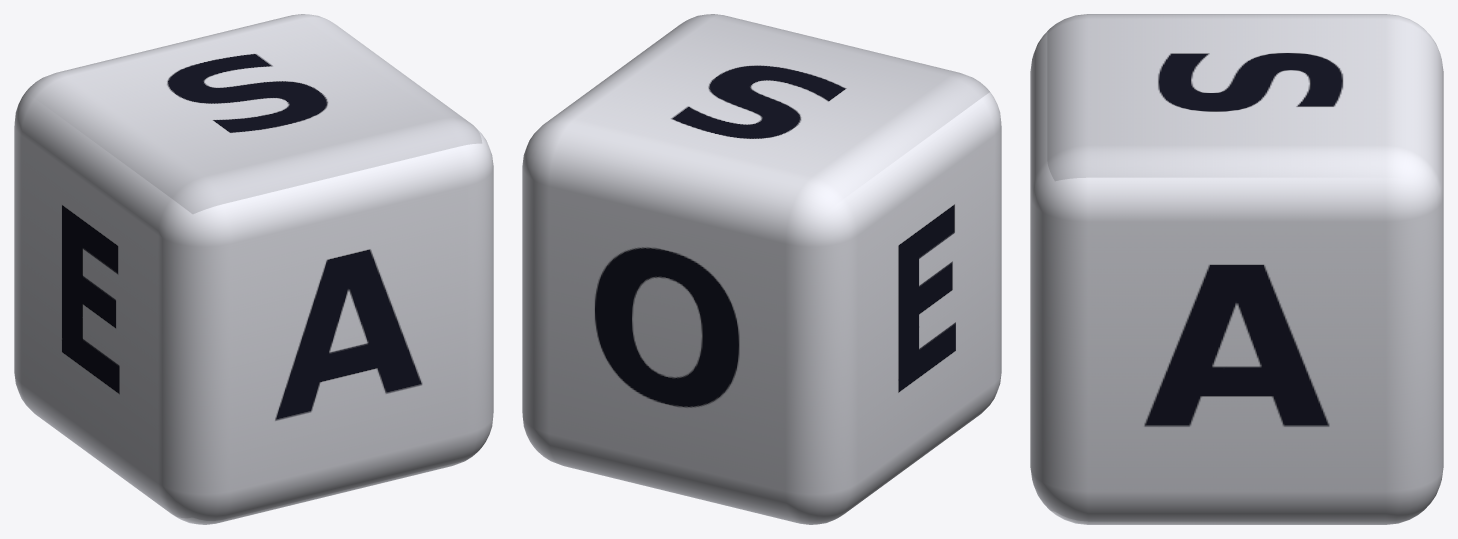
The picture shows the model from 3 angles, left to right: view 1: azimuth 30°, elevation 25°; view 2: azimuth 150°, elevation 25°; view 3: azimuth 270°, elevation 25°; orthographic projection. The views are drawn at different scales.
Bounding box in the file's own units: 1 × 1 × 1.
6 materials, 6 textured.
